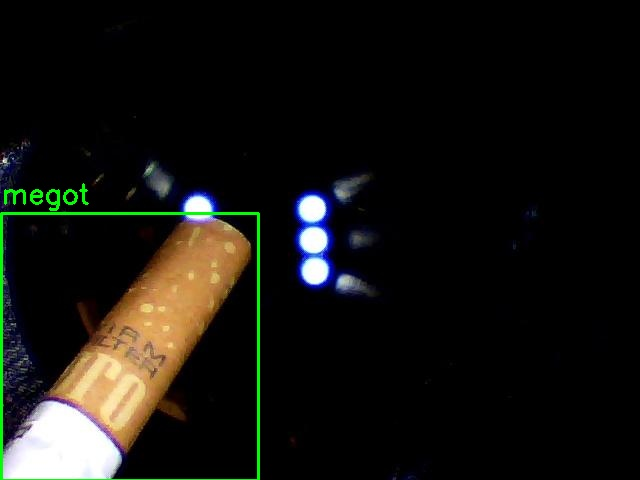megot: (1, 213, 258, 480)
